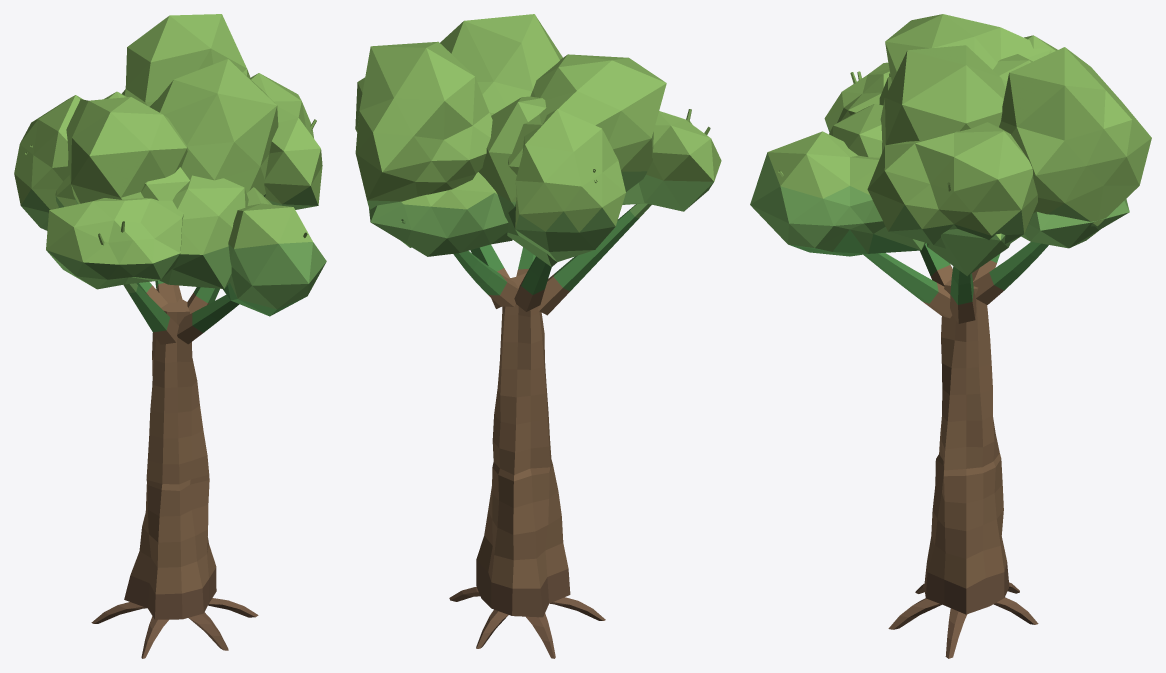
Rendered from tree_oak_large.glb.
3 renders of one model, left to right at view 1: azimuth 30°, elevation 25°; view 2: azimuth 150°, elevation 25°; view 3: azimuth 270°, elevation 25°, orthographic. The views are drawn at different scales.
Visible parts, largest first — view 1: Tree_Oak_Large_Top, Tree_Oak_Large_Base; view 2: Tree_Oak_Large_Top, Tree_Oak_Large_Base; view 3: Tree_Oak_Large_Top, Tree_Oak_Large_Base.
Boxes of the visible parts, x1=… form: Tree_Oak_Large_Top: x1=14, y1=14, x2=326, y2=484; Tree_Oak_Large_Base: x1=91, y1=475, x2=258, y2=658; Tree_Oak_Large_Top: x1=355, y1=14, x2=721, y2=474; Tree_Oak_Large_Base: x1=449, y1=459, x2=605, y2=658; Tree_Oak_Large_Top: x1=750, y1=14, x2=1151, y2=470; Tree_Oak_Large_Base: x1=888, y1=453, x2=1038, y2=658.
Size of the model in its own units: 11.95 by 22.01 by 13.48.
